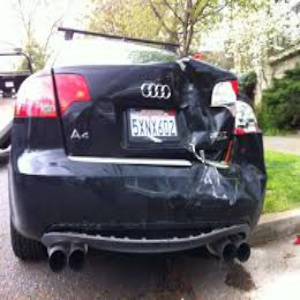bumper: (110, 163, 268, 207)
